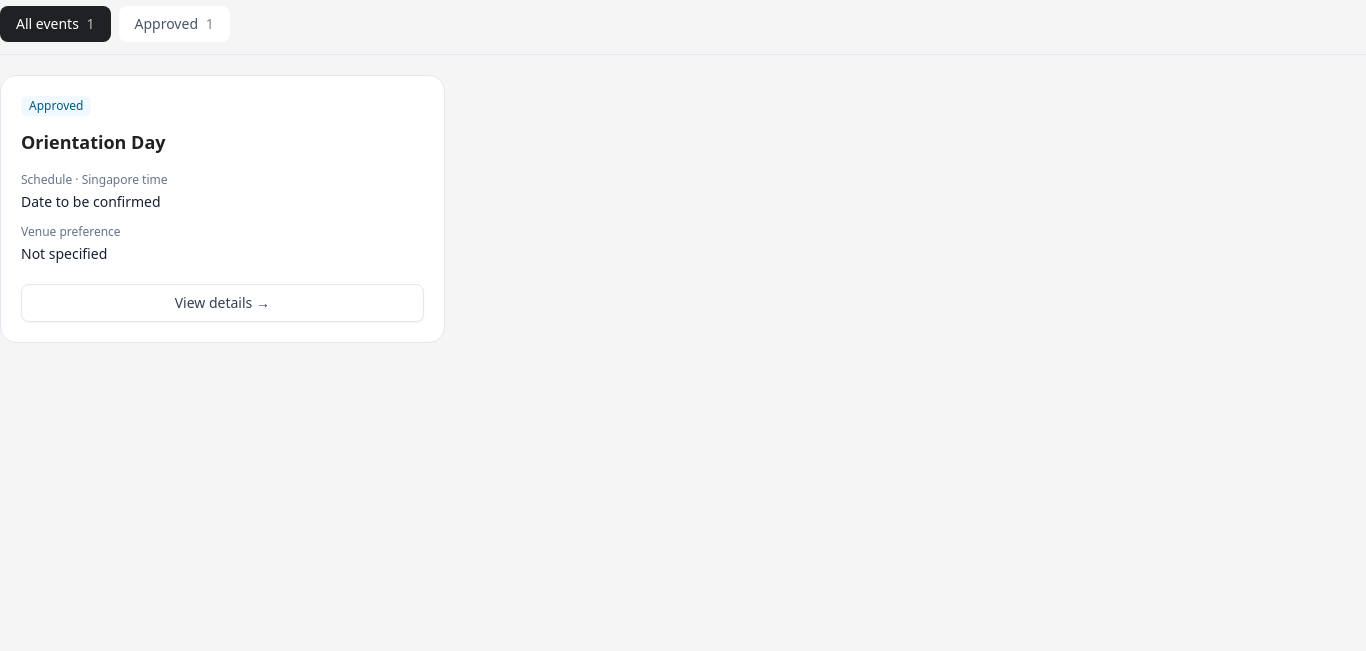
Test case: SCRUM-37 propose a significant change › AC4: a refused proposal lists what to correct
Click the button with aria-label "View details for Orientation Day".
click(222, 303)  # box [21,284,424,322]
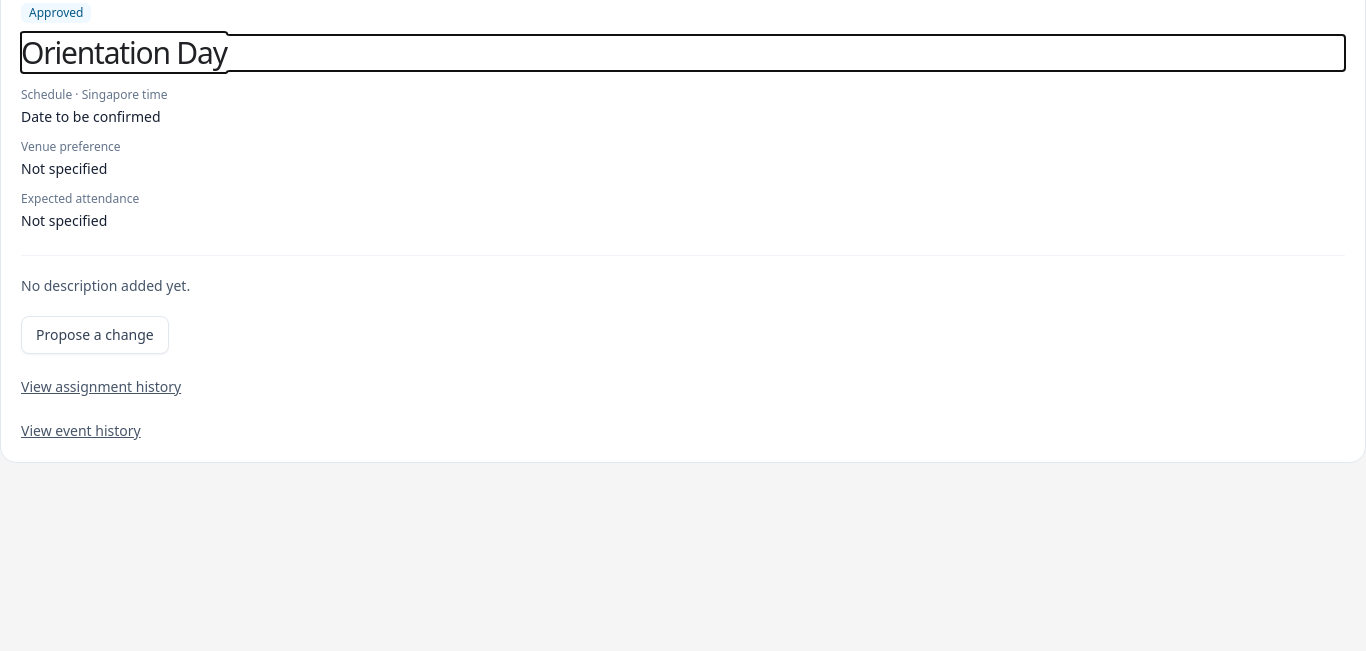
Click the button with aria-label "Propose a change to Orientation Day".
click(95, 335)  # box [21,316,169,354]
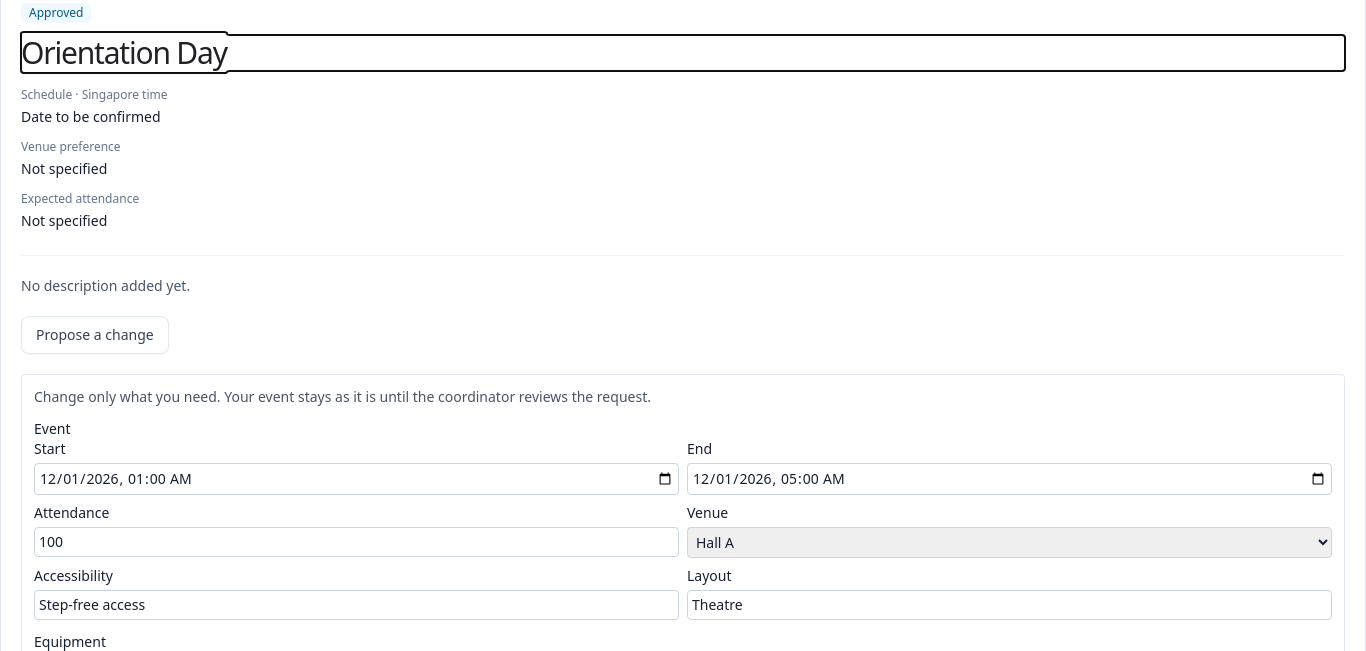
Replace the text in the number field labelled "Attendance" with "0" at (356, 542), box [34,527,679,557]
(page scrolled)
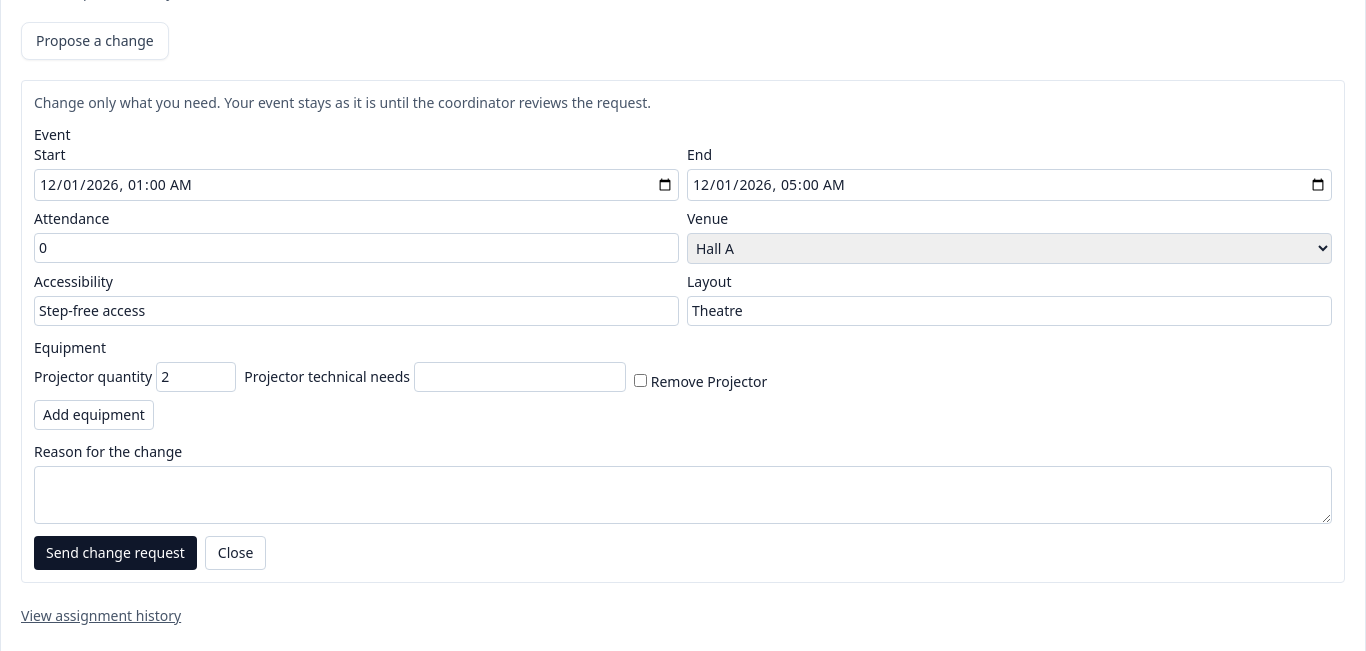
Click the button "Send change request".
click(115, 553)  # box [34,536,197,570]
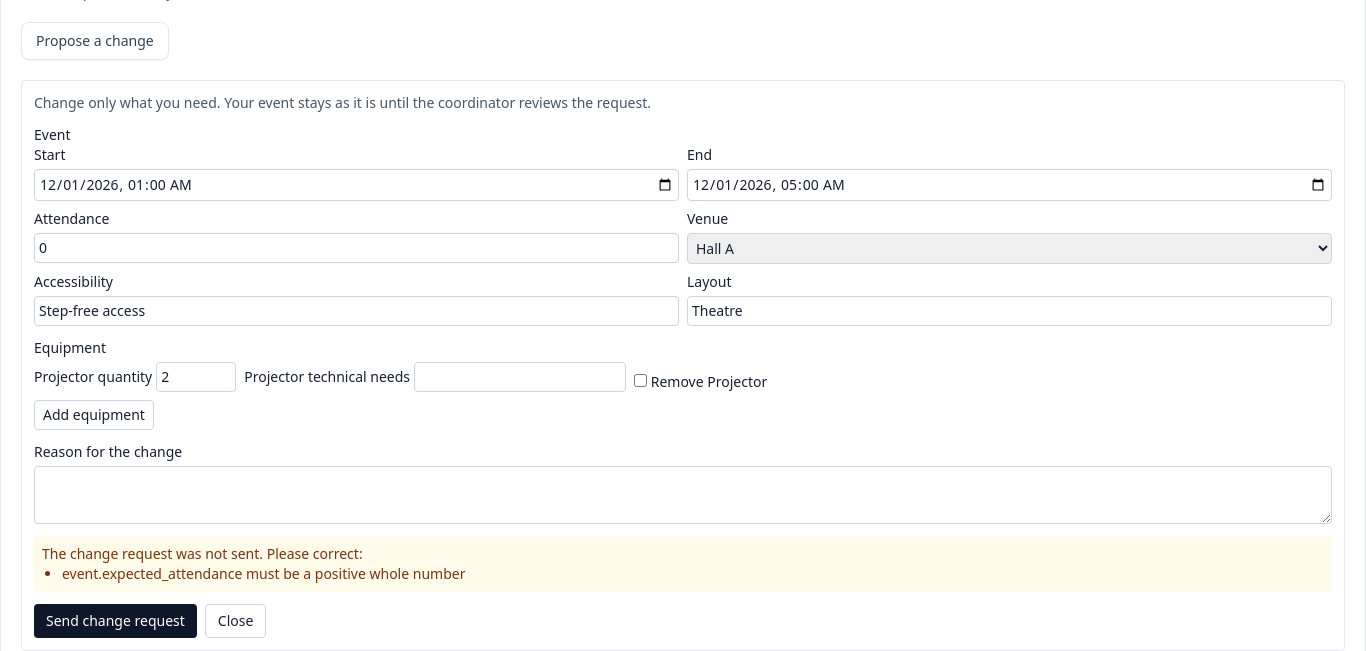
Expected: the message shows "event.expected_attendance must be a positive whole number", [34,536,1332,592]
